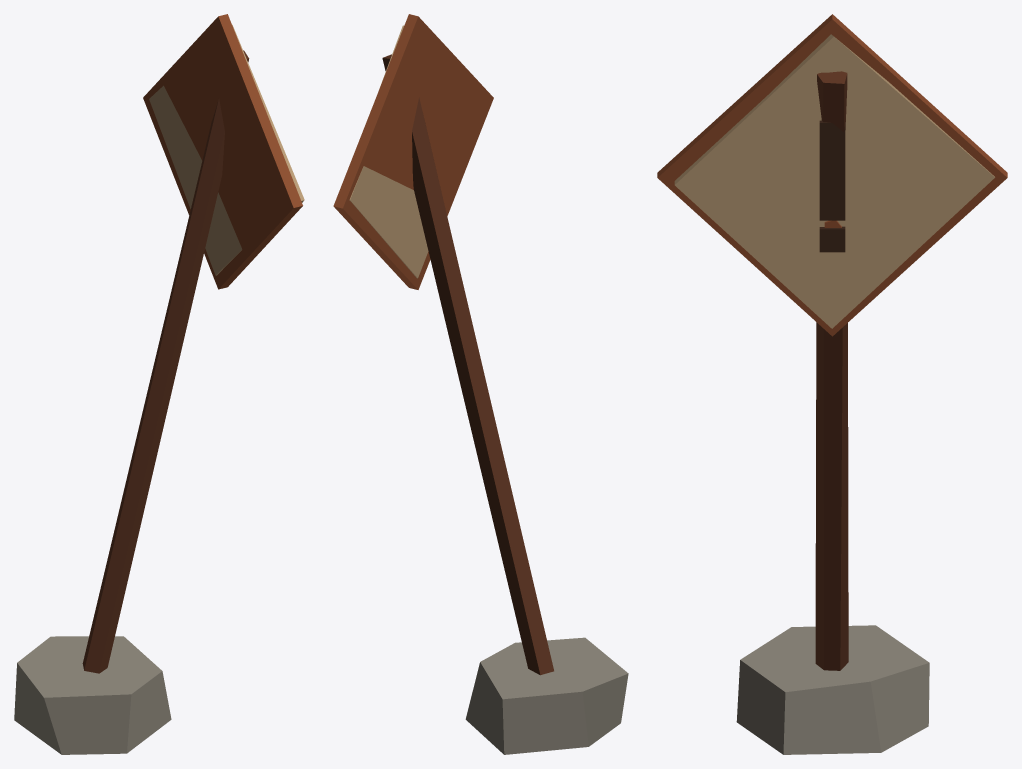
Rendered from road_sign.glb.
3 renders of one model, left to right at view 1: azimuth 30°, elevation 25°; view 2: azimuth 150°, elevation 25°; view 3: azimuth 270°, elevation 25°, orthographic. The views are drawn at different scales.
Parts seen in each view (by area): view 1: road_sign; view 2: road_sign; view 3: road_sign.
Boxes of the visible parts, box(x1,y1,x2,y2) form: road_sign: box(14, 14, 304, 754); road_sign: box(333, 14, 628, 754); road_sign: box(657, 14, 1007, 754).
Size of the model in its own units: 0.9412 by 2.74 by 1.1.
